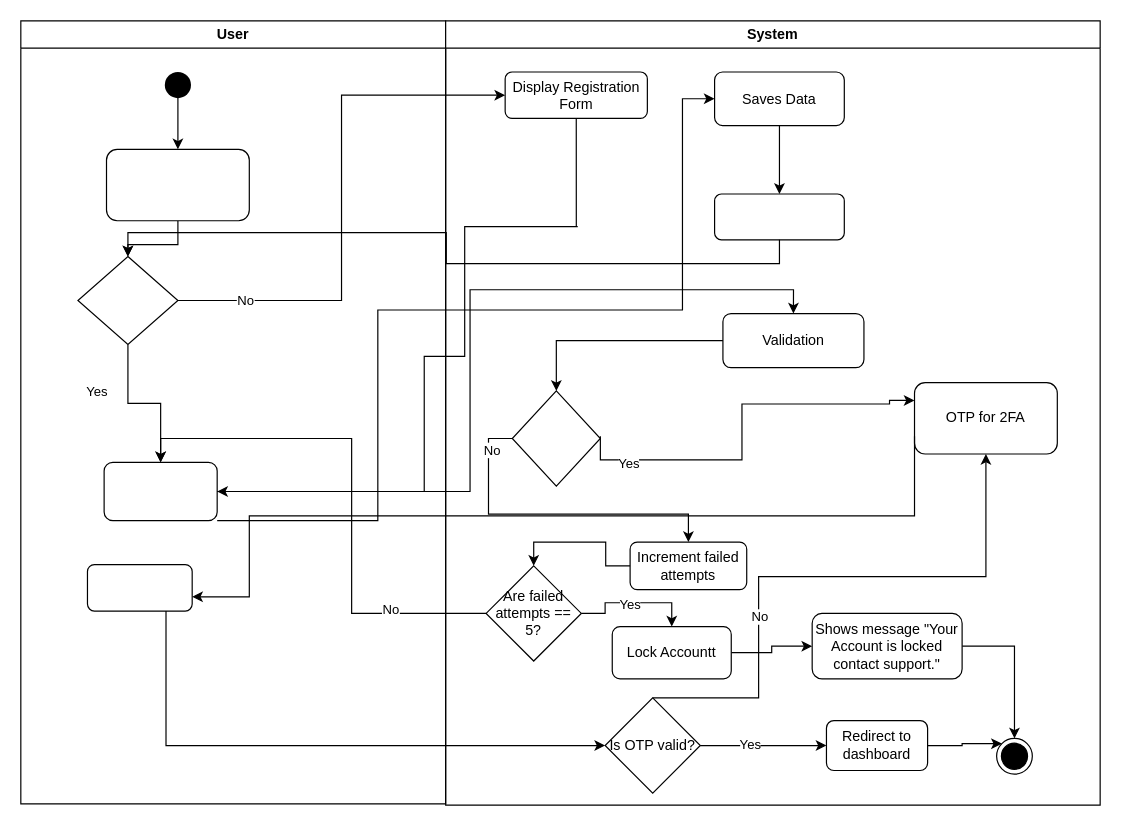
This 1121x826 diagram has some shape labels left out. The box of each missing label's shape, as (x1, y1, x2, y2) in pixels:
Enter Details (Email, Password): (103, 461, 217, 521)
Enters OTP: (86, 563, 192, 611)
Have an Account?: (77, 255, 178, 345)
navigates to the opening page.: (105, 148, 249, 221)
Redirects to Login page: (713, 193, 844, 240)
Valid Input?: (511, 390, 600, 486)
